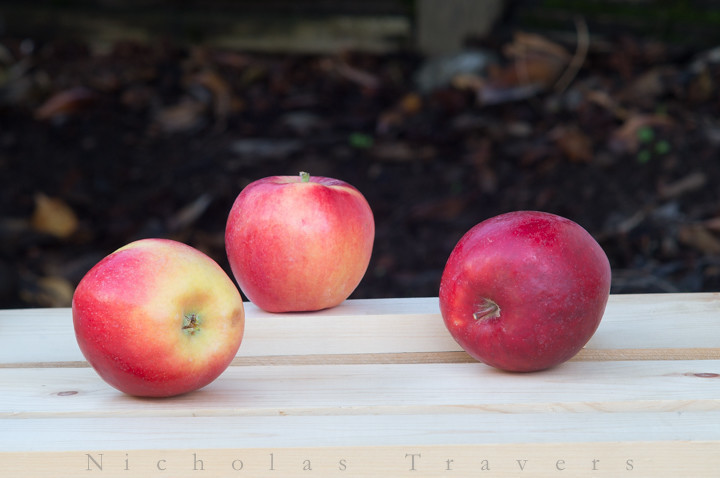apple: (432, 204, 629, 378), (68, 231, 248, 398), (217, 169, 378, 321)
